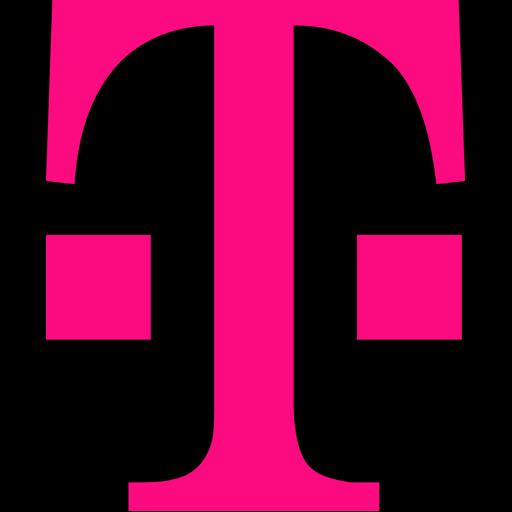Deutsche Telekom: (46, 0, 465, 511)
